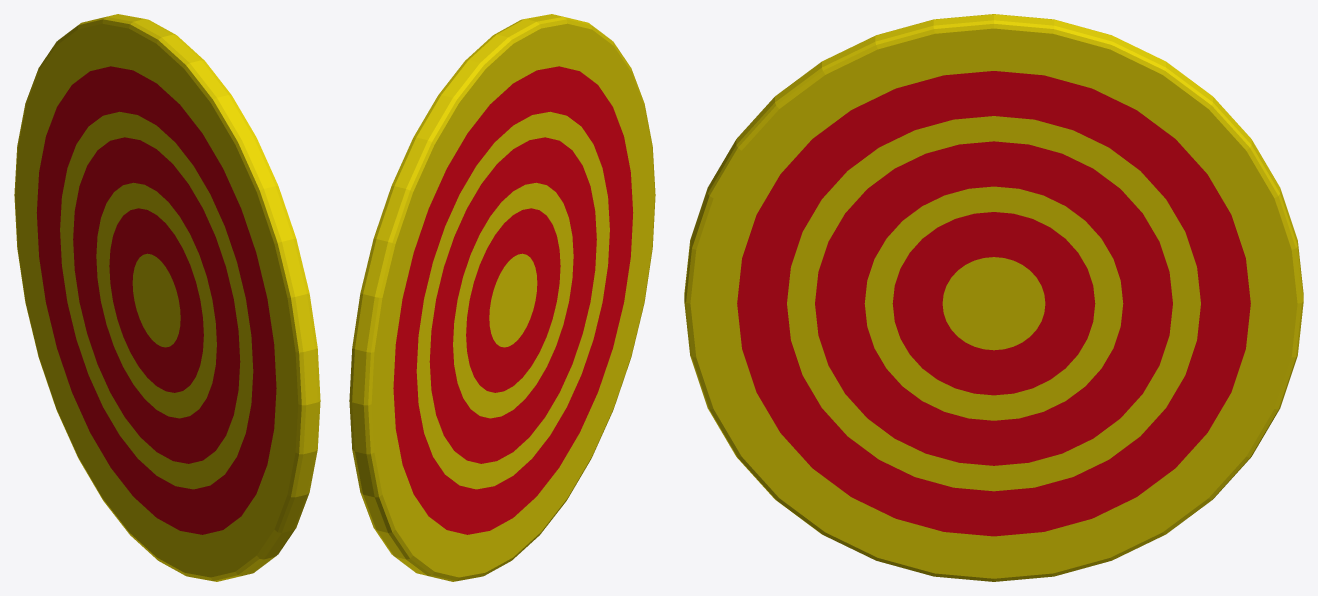
Rendered from Target.fbx.
3 renders of one model, left to right at view 1: azimuth 30°, elevation 25°; view 2: azimuth 150°, elevation 25°; view 3: azimuth 270°, elevation 25°, orthographic. The views are drawn at different scales.
Visible parts, largest first — view 1: Circle; view 2: Circle; view 3: Circle.
Boxes of the visible parts, left/top/right/bottom form: Circle: left=14, top=14, right=320, bottom=581; Circle: left=349, top=14, right=655, bottom=581; Circle: left=684, top=14, right=1303, bottom=581.
Bounding box in the file's own units: 8.65 × 200 × 200.
